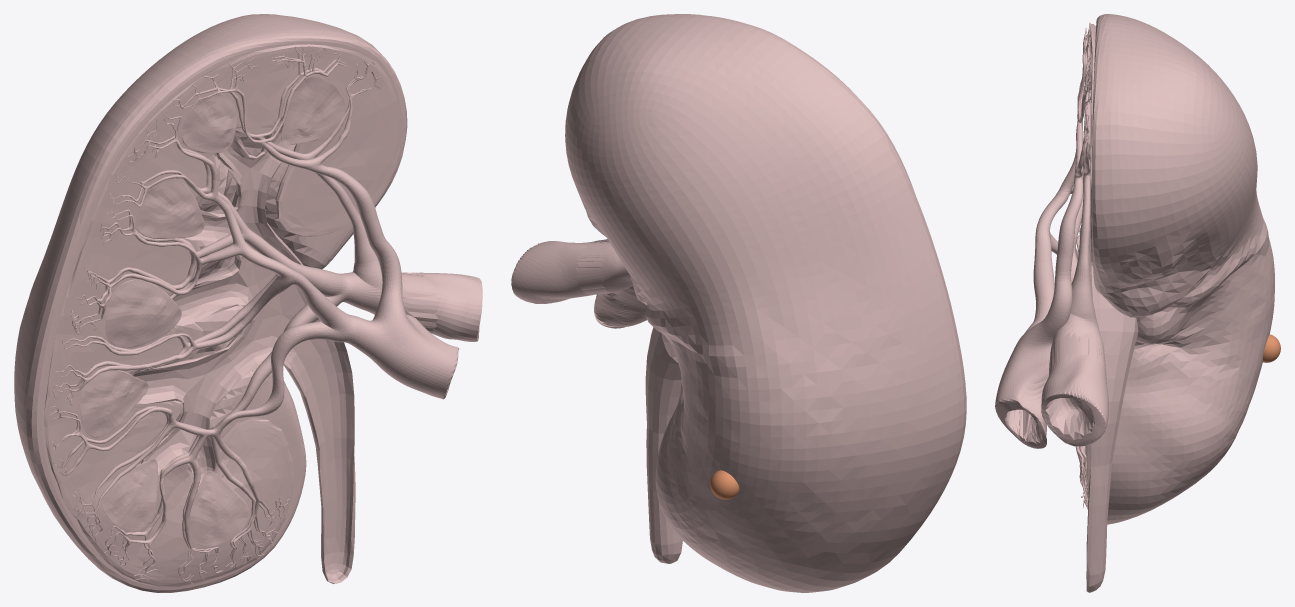
File: kidney_a1834e89.glb
The picture shows the model from 3 angles, left to right: view 1: azimuth 30°, elevation 25°; view 2: azimuth 150°, elevation 25°; view 3: azimuth 270°, elevation 25°; orthographic projection. The views are drawn at different scales.
Parts seen in each view (by area): view 1: world; view 2: world; view 3: world.
Part boxes in pixels (bbox=[...]): world: bbox=[14, 14, 482, 592]; world: bbox=[511, 14, 966, 592]; world: bbox=[995, 14, 1280, 592].
Bounding box in the file's own units: 8.47 × 10.1 × 4.99.
